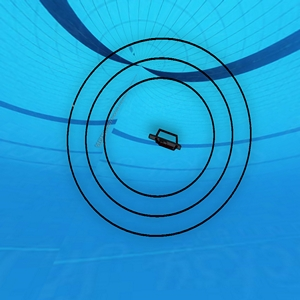circle: (66, 38, 254, 237)
submarine: (147, 127, 182, 150)
